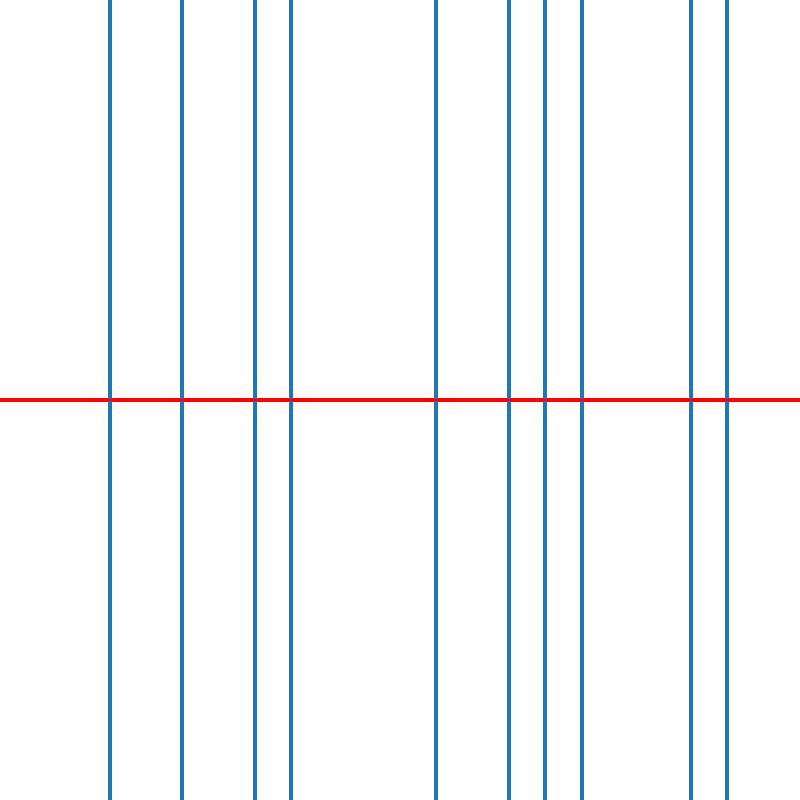root: (432, 396, 440, 404), (541, 396, 549, 404), (250, 396, 258, 404), (578, 396, 585, 404), (287, 396, 294, 404), (687, 396, 694, 404), (723, 396, 730, 404), (178, 396, 185, 404), (505, 396, 512, 404), (105, 396, 112, 404)
